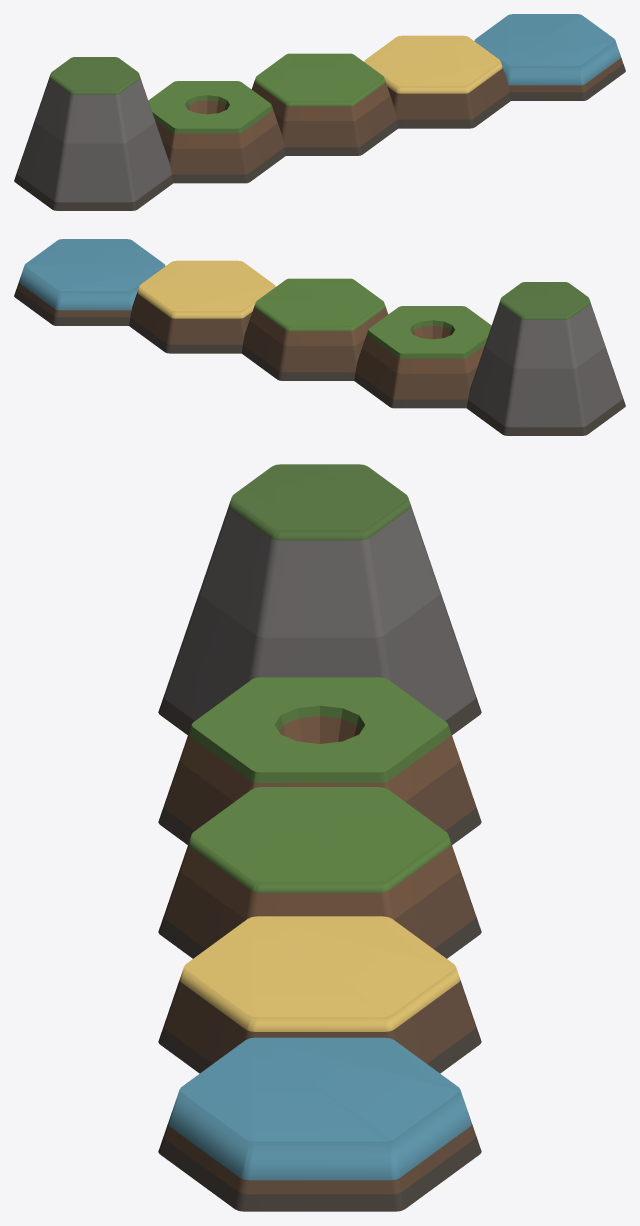
The model's file is Tiles.fbx.
3 renders of one model, top to bottom at view 1: azimuth 30°, elevation 25°; view 2: azimuth 150°, elevation 25°; view 3: azimuth 270°, elevation 25°, orthographic. The views are drawn at different scales.
Parts seen in each view (by area): view 1: pasted__mountain_tile, grass_tile, river_thin, sand, water; view 2: pasted__mountain_tile, grass_tile, river_thin, sand, water; view 3: pasted__mountain_tile, water, grass_tile, sand, river_thin.
Boxes of the visible parts, x1=… form: pasted__mountain_tile: x1=14, y1=57, x2=173, y2=210; grass_tile: x1=251, y1=53, x2=398, y2=155; river_thin: x1=148, y1=81, x2=285, y2=183; sand: x1=364, y1=35, x2=510, y2=128; water: x1=474, y1=14, x2=625, y2=100; pasted__mountain_tile: x1=466, y1=282, x2=625, y2=435; grass_tile: x1=241, y1=278, x2=388, y2=380; river_thin: x1=354, y1=306, x2=491, y2=408; sand: x1=129, y1=260, x2=275, y2=353; water: x1=14, y1=239, x2=165, y2=325; pasted__mountain_tile: x1=158, y1=464, x2=481, y2=734; water: x1=158, y1=1037, x2=481, y2=1211; grass_tile: x1=158, y1=787, x2=481, y2=958; sand: x1=158, y1=916, x2=481, y2=1073; river_thin: x1=158, y1=677, x2=481, y2=844.
Bounding box in the file's own units: 5.09 × 0.9137 × 1.24.
